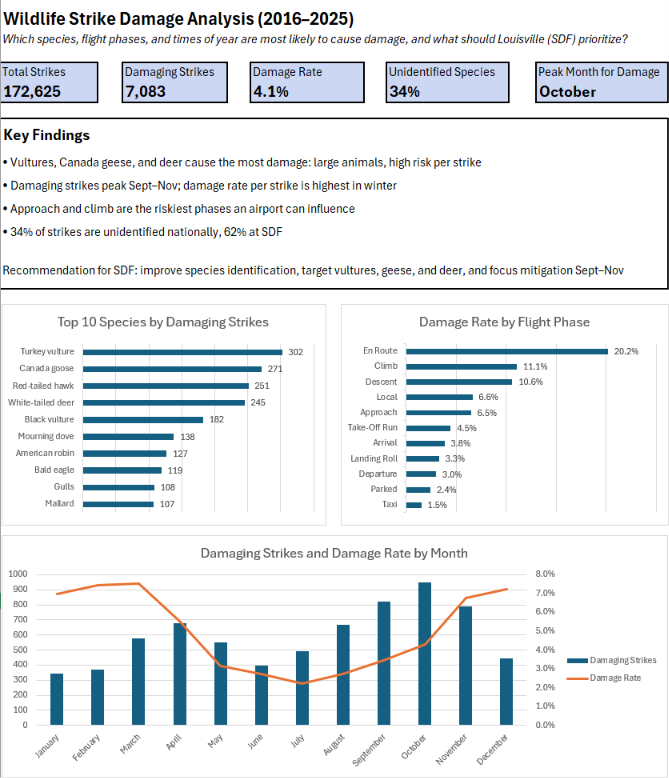

This screenshot's page, from the dashboard's own definition file:
{"tool":"powerbi","page":{"name":"Page 1","canvas":[1920,1080],"ordinal":0},"visuals":[{"type":"cardVisual","fields":{"Data":["strikes_clean.Total Strikes Label"]},"box":[24.4,127.7,439.8,106.3],"z":0},{"type":"cardVisual","fields":{"Data":["strikes_clean.Damaging Strikes Label"]},"box":[501.2,127.7,439.8,106.3],"z":1000},{"type":"cardVisual","fields":{"Data":["strikes_clean.Damage Rate"]},"box":[972.2,127.7,439.8,106.3],"z":2000},{"type":"clusteredBarChart","title":"Damage Rate by Species","fields":{"Category":["strikes_clean.SPECIES"],"Y":["strikes_clean.Damage Rate (Min Volume)"]},"box":[24.4,255.1,916.2,364.9],"z":3000},{"type":"lineClusteredColumnComboChart","title":"Damaging Strikes and Damage Rate by Month","fields":{"Category":["strikes_clean.Month Name"],"Y":["strikes_clean.Damaging Strikes"],"Y2":["strikes_clean.Damage Rate"]},"box":[971.6,255.1,916.2,364.9],"z":4000},{"type":"clusteredBarChart","title":"Damage Rate by Phase of Flight","fields":{"Category":["strikes_clean.PHASE_OF_FLIGHT"],"Y":["strikes_clean.Damage Rate"]},"box":[24.3,644.9,916.7,392.2],"z":5000},{"type":"slicer","fields":{"Values":["strikes_clean.STATE"]},"box":[1354.3,17.7,140.9,69.9],"z":6000},{"type":"slicer","fields":{"Values":["strikes_clean.AIRPORT"]},"box":[1520.7,17.7,160.8,72.1],"z":7000},{"type":"slicer","fields":{"Values":["strikes_clean.Year"]},"box":[1701.5,17.7,186.3,58.8],"z":8000},{"type":"textbox","box":[24.4,14.4,760,52],"z":9000},{"type":"cardVisual","fields":{"Data":["strikes_clean.% Unidentified"]},"box":[1448,127.7,439.8,106.3],"z":10000},{"type":"textbox","box":[24.4,48.8,759.8,22.2],"z":11000},{"type":"textbox","box":[24.4,71,994.9,42.1],"z":12000},{"type":"textbox","box":[24.3,1045.6,853.2,24.3],"z":13000},{"type":"textbox","box":[972.7,643.9,915.6,393.3],"z":14000}]}

Visuals, with their boxes on the page's 1920x1080 design canvas (x1, y1, x2, y2). These are canvas units, not pixel positions in the 669x778 screenshot, which may show the page scaled, cropped or inside an application window:
cardVisual - strikes_clean.Total Strikes Label: x1=24, y1=128, x2=464, y2=234
cardVisual - strikes_clean.Damaging Strikes Label: x1=501, y1=128, x2=941, y2=234
cardVisual - strikes_clean.Damage Rate: x1=972, y1=128, x2=1412, y2=234
"Damage Rate by Species" clusteredBarChart: x1=24, y1=255, x2=941, y2=620
"Damaging Strikes and Damage Rate by Month" lineClusteredColumnComboChart: x1=972, y1=255, x2=1888, y2=620
"Damage Rate by Phase of Flight" clusteredBarChart: x1=24, y1=645, x2=941, y2=1037
slicer - strikes_clean.STATE: x1=1354, y1=18, x2=1495, y2=88
slicer - strikes_clean.AIRPORT: x1=1521, y1=18, x2=1682, y2=90
slicer - strikes_clean.Year: x1=1702, y1=18, x2=1888, y2=76
textbox: x1=24, y1=14, x2=784, y2=66
cardVisual - strikes_clean.% Unidentified: x1=1448, y1=128, x2=1888, y2=234
textbox: x1=24, y1=49, x2=784, y2=71
textbox: x1=24, y1=71, x2=1019, y2=113
textbox: x1=24, y1=1046, x2=878, y2=1070
textbox: x1=973, y1=644, x2=1888, y2=1037
